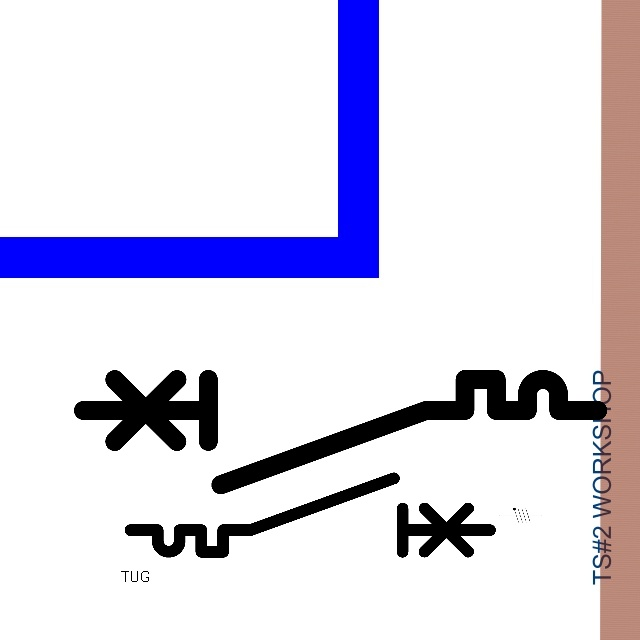interruptor_termomagnetico: (70, 366, 611, 498), (121, 469, 499, 561)
